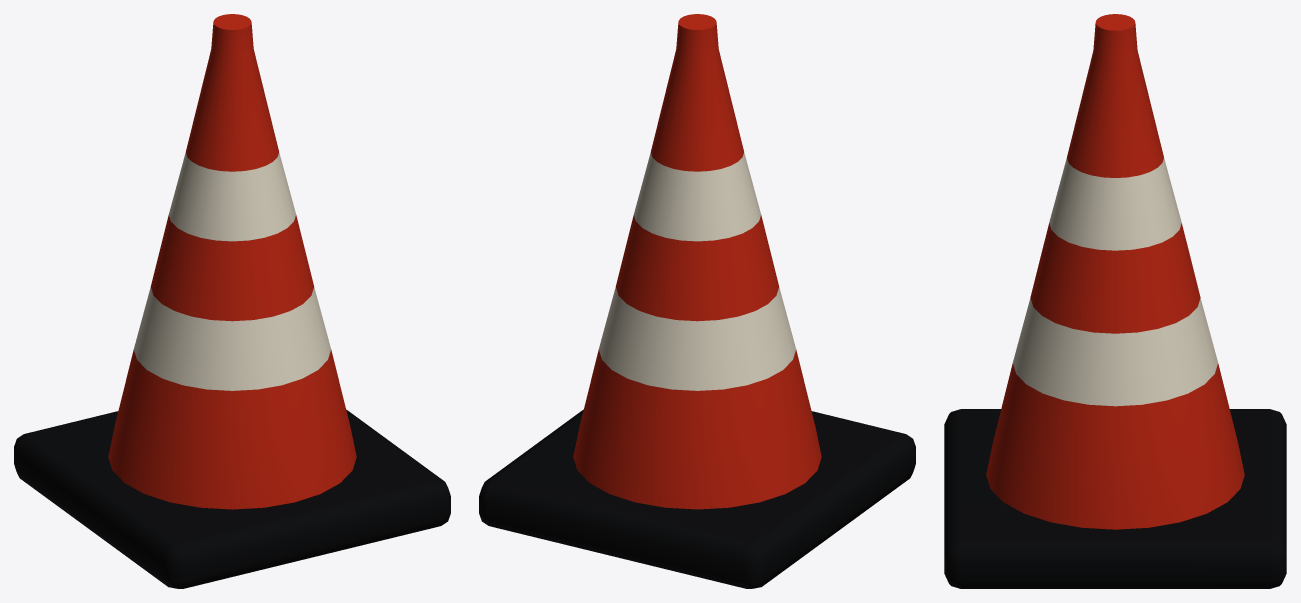
Rendered from cone-chantier.glb.
The picture shows the model from 3 angles, left to right: view 1: azimuth 30°, elevation 25°; view 2: azimuth 150°, elevation 25°; view 3: azimuth 270°, elevation 25°; orthographic projection. The views are drawn at different scales.
Parts seen in each view (by area): view 1: cone-chantier; view 2: cone-chantier; view 3: cone-chantier.
Boxes of the visible parts, x1,y1,x2,y2 form: cone-chantier: [14, 14, 450, 588]; cone-chantier: [479, 14, 915, 588]; cone-chantier: [944, 14, 1286, 588].
Bounding box in the file's own units: 0.31 × 0.5 × 0.31.
Materials: 1 (1 with a texture image).
